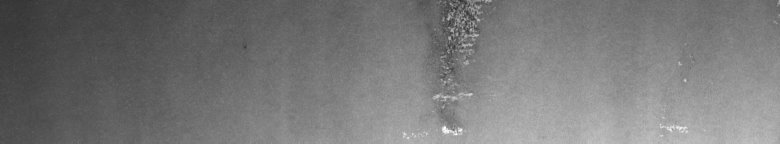hc: (403, 4, 488, 136)
